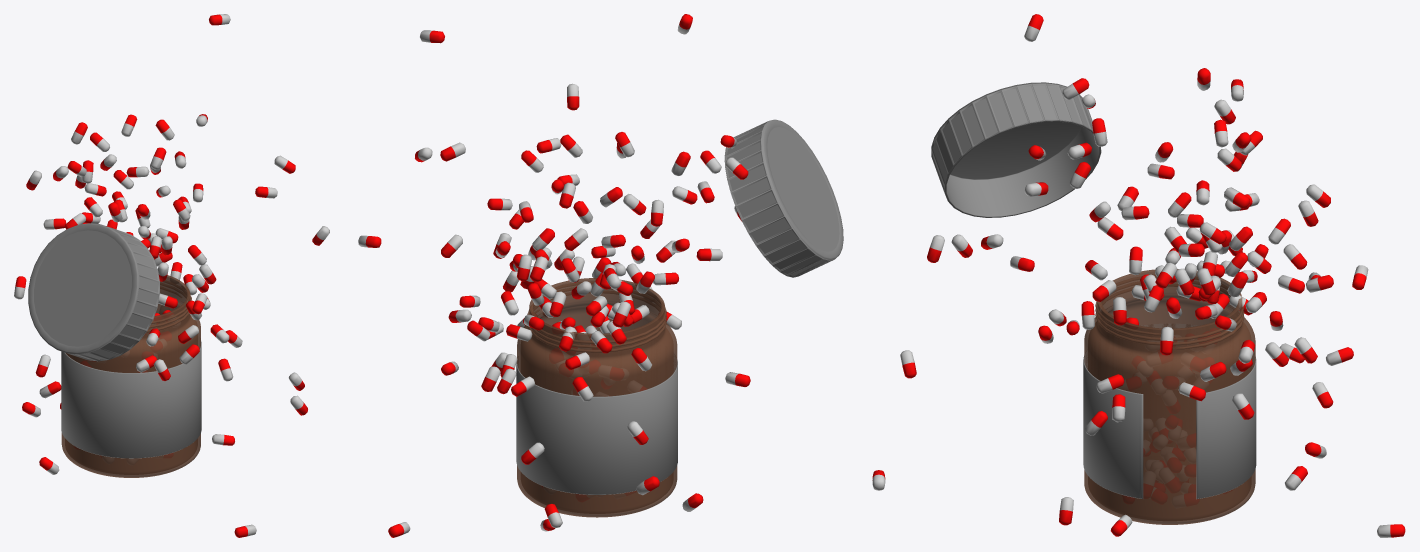
The picture shows the model from 3 angles, left to right: view 1: azimuth 30°, elevation 25°; view 2: azimuth 150°, elevation 25°; view 3: azimuth 270°, elevation 25°; orthographic projection. The views are drawn at different scales.
Parts seen in each view (by area): view 1: lid, Cylinder, bottle, Spiral; view 2: Cylinder, bottle, lid, Spiral; view 3: bottle, lid, Cylinder, Spiral.
Part boxes in pixels (<box>): lid: <box>28,223,159,361</box>; Cylinder: <box>61,340,201,458</box>; bottle: <box>61,275,200,477</box>; Spiral: <box>146,280,191,332</box>; Cylinder: <box>516,329,677,494</box>; bottle: <box>517,278,677,517</box>; lid: <box>724,119,843,277</box>; Spiral: <box>527,282,666,352</box>; bottle: <box>1084,269,1255,524</box>; lid: <box>931,82,1101,217</box>; Cylinder: <box>1083,324,1256,499</box>; Spiral: <box>1095,275,1244,349</box>.
Size of the model in its own units: 5.36 by 6.21 by 6.22.
